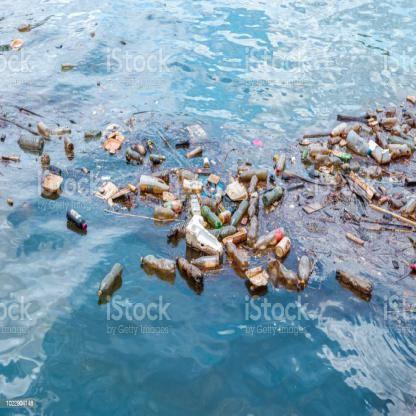Glass: (93, 257, 123, 302), (64, 202, 88, 235)
Metal: (19, 126, 49, 156)
Plastic: (334, 266, 376, 301), (222, 233, 251, 271), (138, 169, 172, 200), (253, 225, 288, 252), (177, 258, 211, 285)
